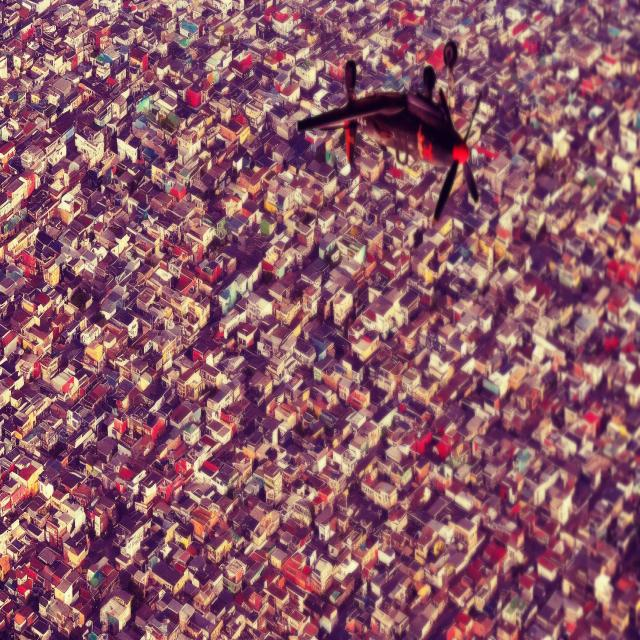airplane: (296, 40, 498, 226)
